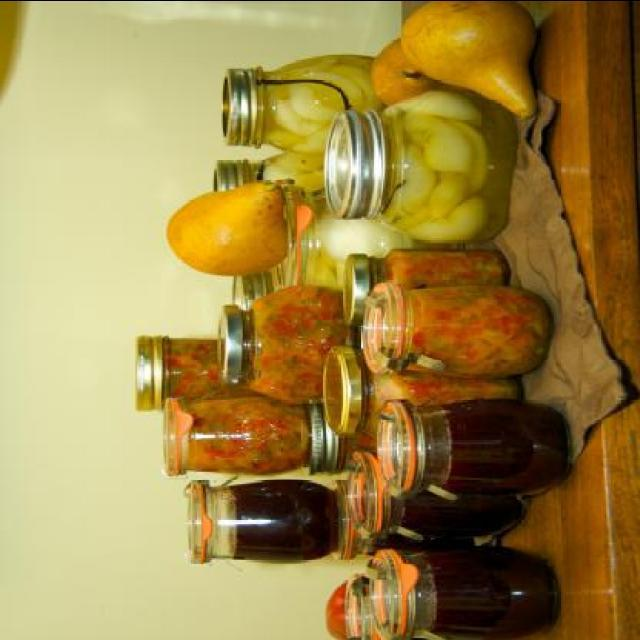Pear: (398, 1, 540, 119), (166, 178, 294, 276), (368, 34, 472, 108)
